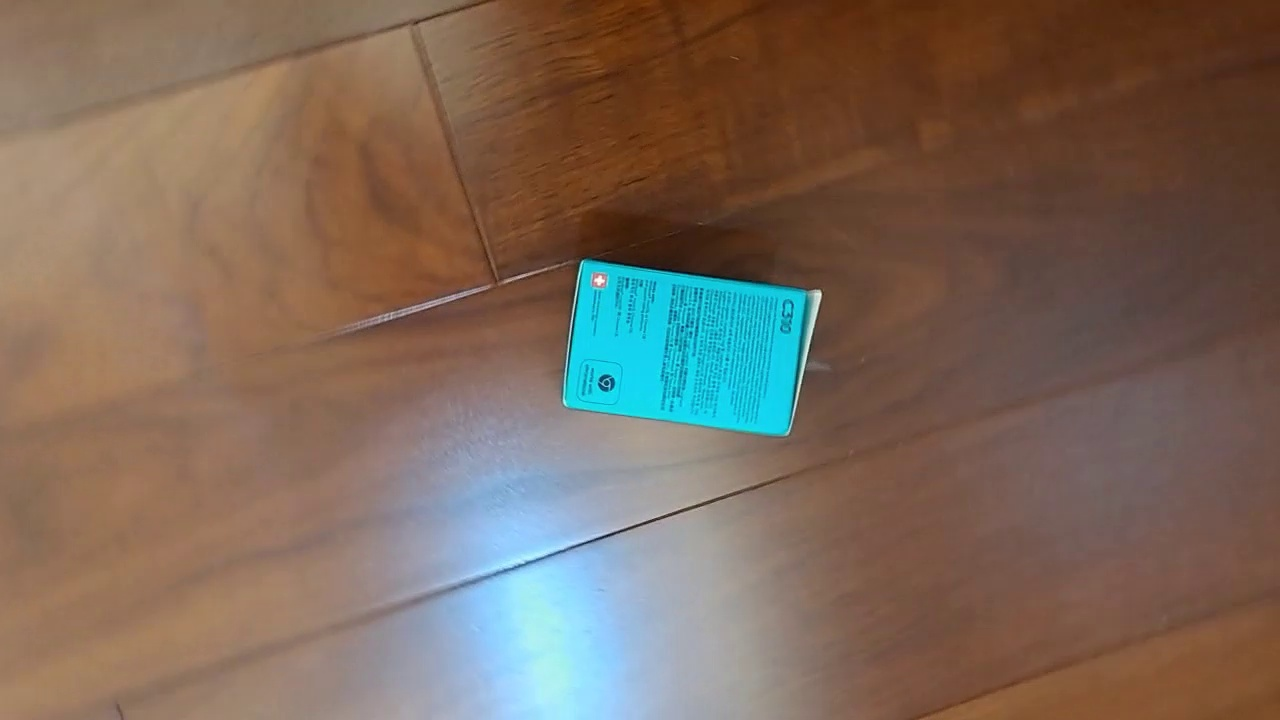webcam: (561, 257, 825, 437)
